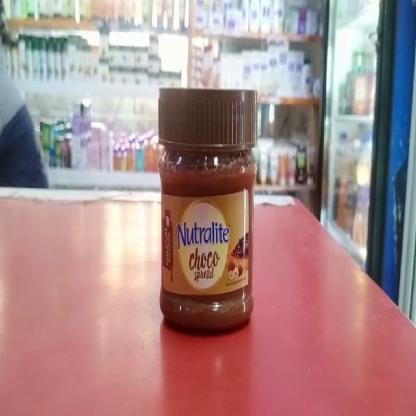Nutralite CHOCO SPREAD CALCIUM 275g: (160, 91, 256, 330)
